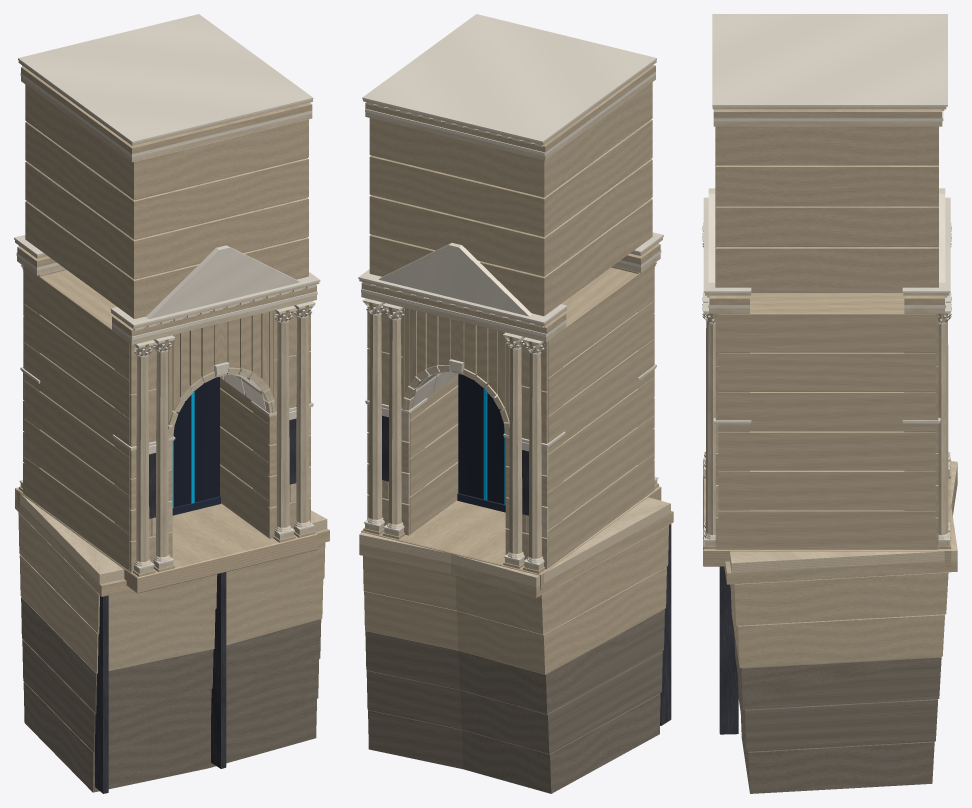
The model's file is UMOD_04_Cardinal_Triumphal_Gate_Pavilion.obj.
3 renders of one model, left to right at view 1: azimuth 30°, elevation 25°; view 2: azimuth 150°, elevation 25°; view 3: azimuth 270°, elevation 25°, orthographic. The views are drawn at different scales.
Visible parts, largest first — view 1: UMOD_04_Cardinal_Triumphal_Gate_Pavilion; view 2: UMOD_04_Cardinal_Triumphal_Gate_Pavilion; view 3: UMOD_04_Cardinal_Triumphal_Gate_Pavilion.
Boxes of the visible parts, left/top/right/bottom form: UMOD_04_Cardinal_Triumphal_Gate_Pavilion: left=14, top=14, right=329, bottom=793; UMOD_04_Cardinal_Triumphal_Gate_Pavilion: left=358, top=14, right=673, bottom=793; UMOD_04_Cardinal_Triumphal_Gate_Pavilion: left=702, top=14, right=957, bottom=793.
Bounding box in the file's own units: 34.98 × 96.44 × 32.93.
10 materials, 10 textured.
